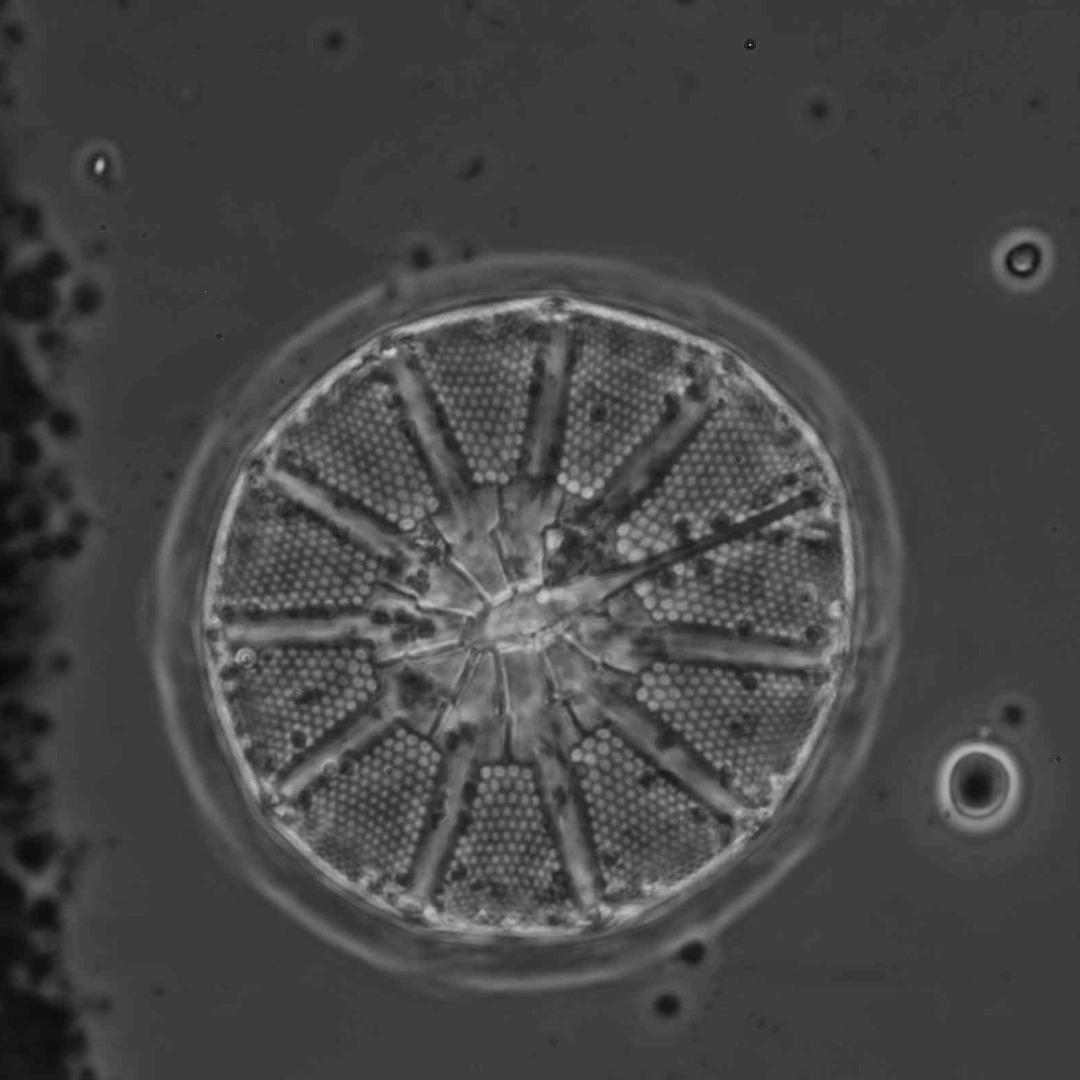asteromphalus_hyalinus: (201, 289, 855, 947)
